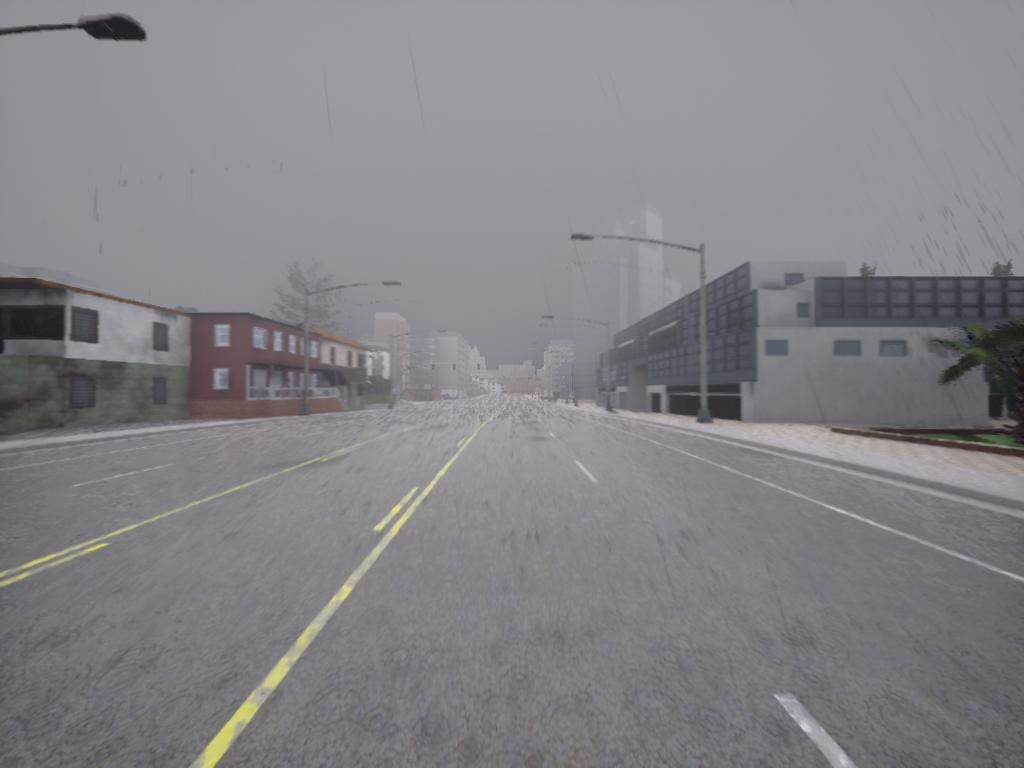traffic_light: (432, 365, 436, 372), (453, 364, 457, 371), (478, 363, 481, 372)
